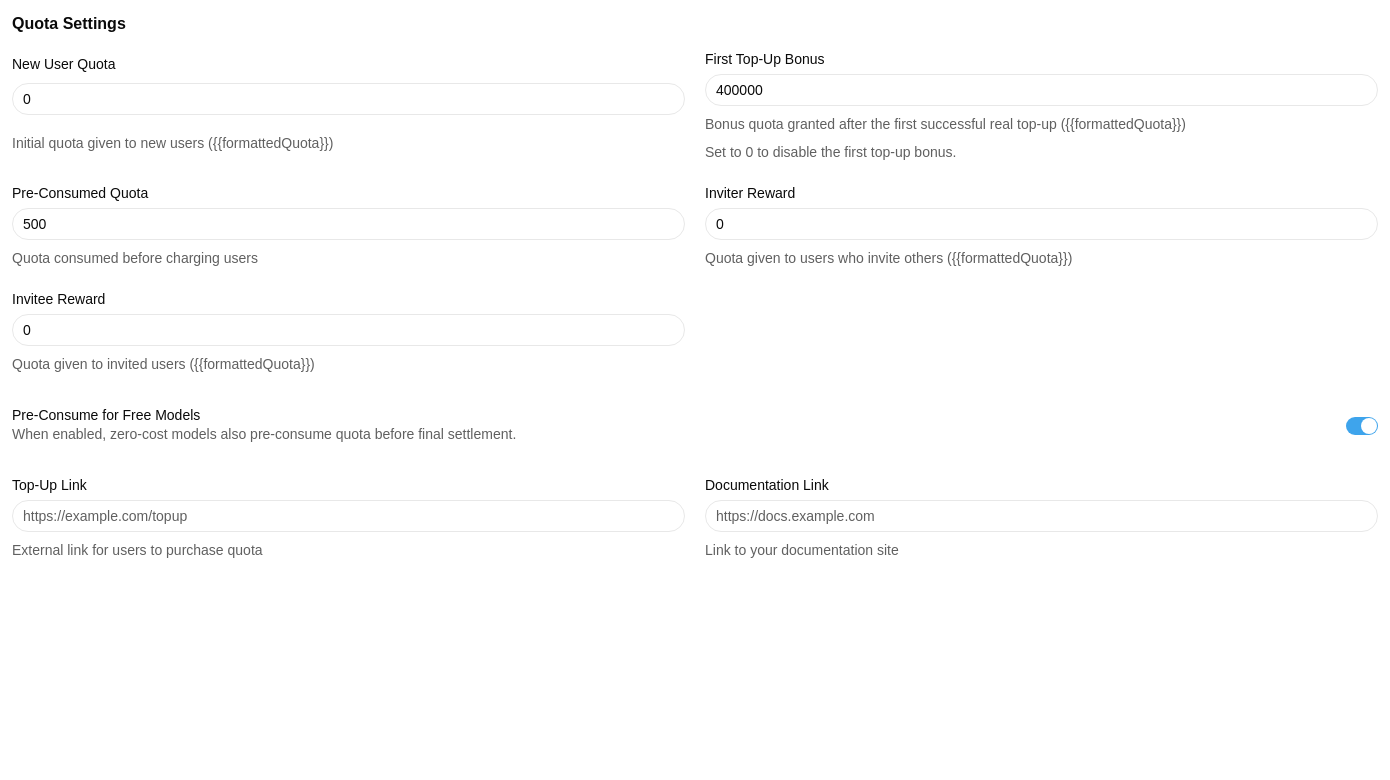
Test: QuotaSettingsSection first top-up bonus › refuses to submit a non-integer bonus quota
The width and height of the screenshot is (1390, 780).
Replace the text in the number field labelled "First Top-Up Bonus" with "1.5": (1042, 90) [705, 74, 1378, 106]
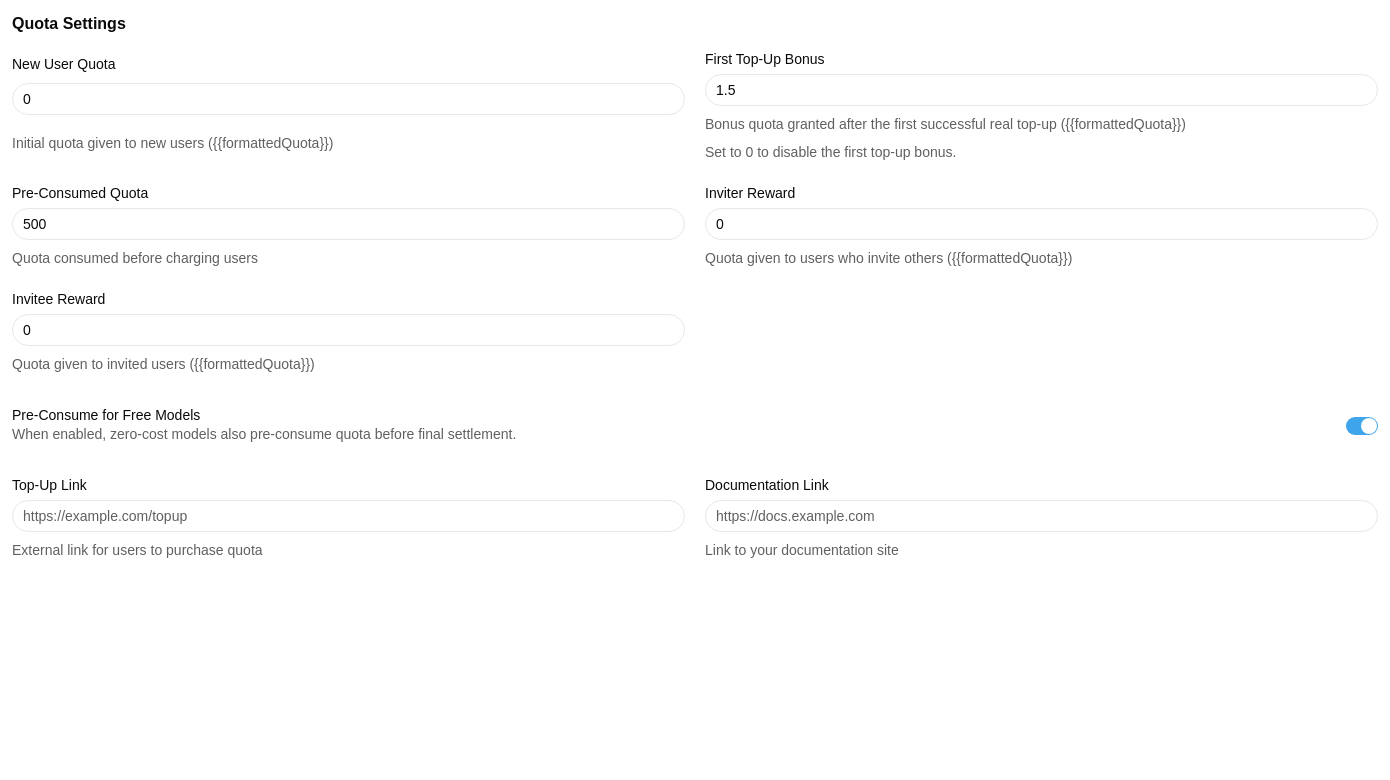
Submit the form named "First Top-Up Bonus"
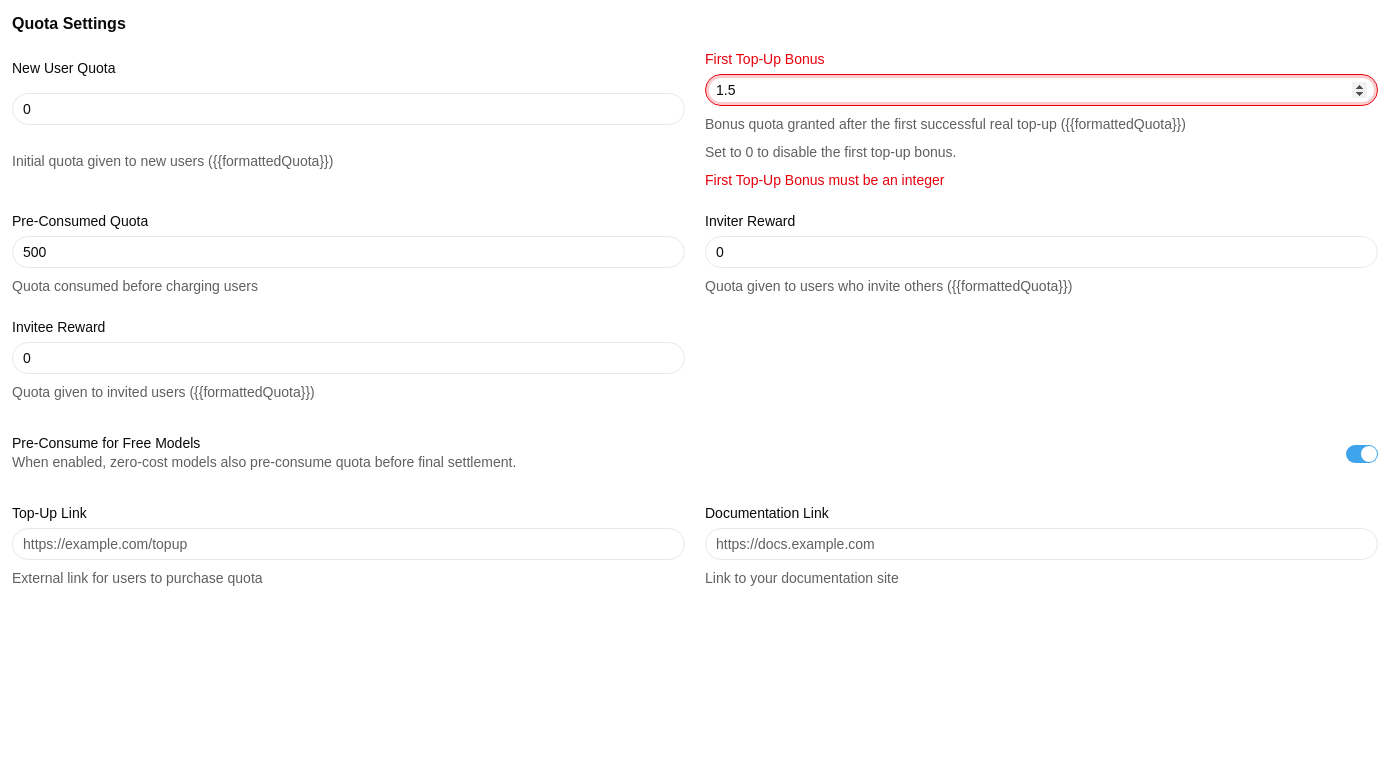
Expected: the text "First Top-Up Bonus must be an integer" is shown, [705, 172, 944, 188]
